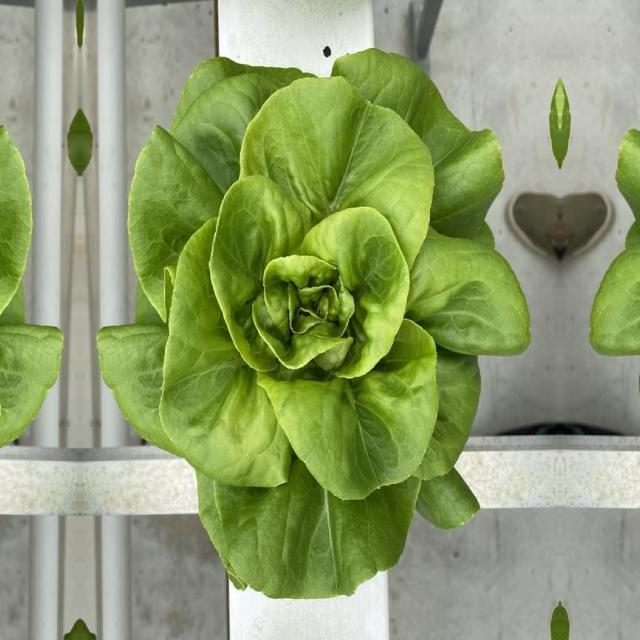healthy: (91, 49, 532, 604), (0, 48, 68, 603), (587, 48, 640, 603)
